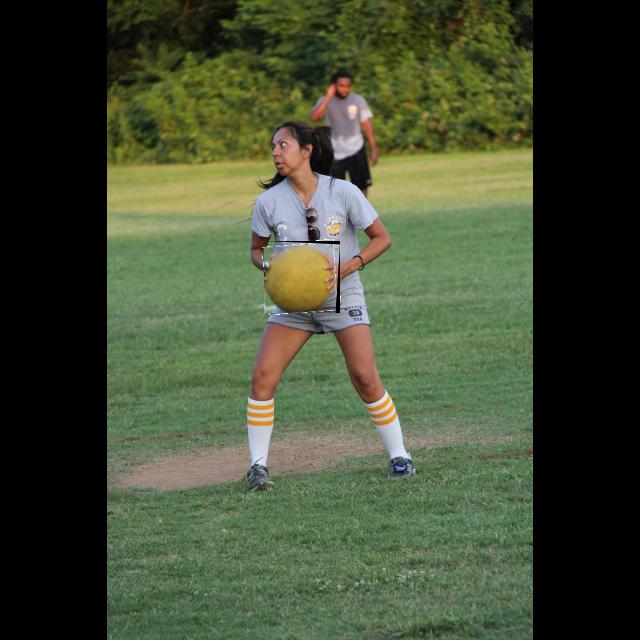Football: (264, 241, 340, 313)
